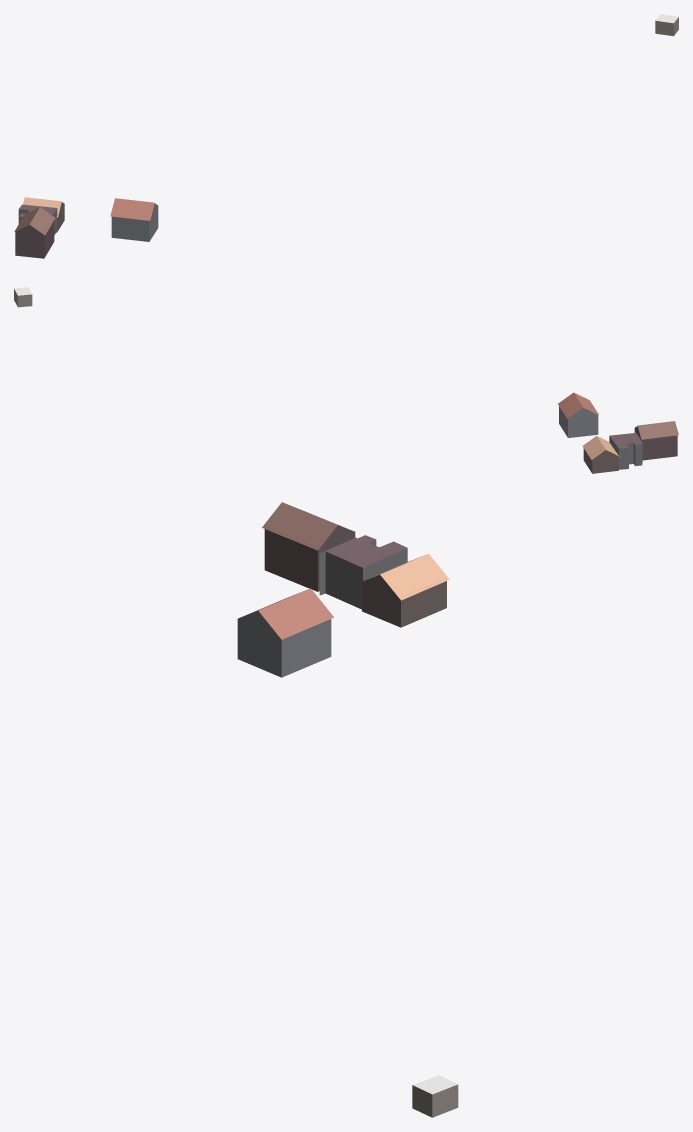
3 renders of one model, top to bottom at view 1: azimuth 30°, elevation 25°; view 2: azimuth 150°, elevation 25°; view 3: azimuth 270°, elevation 25°, orthographic. The views are drawn at different scales.
Visible parts, largest first — view 1: tuile; view 2: tuile; view 3: tuile.
Boxes of the visible parts, x1,y1,x2,y2 form: tuile: [14, 14, 678, 258]; tuile: [14, 287, 678, 473]; tuile: [237, 502, 458, 1117].
Size of the model in its own units: 242 by 14.93 by 37.11.
